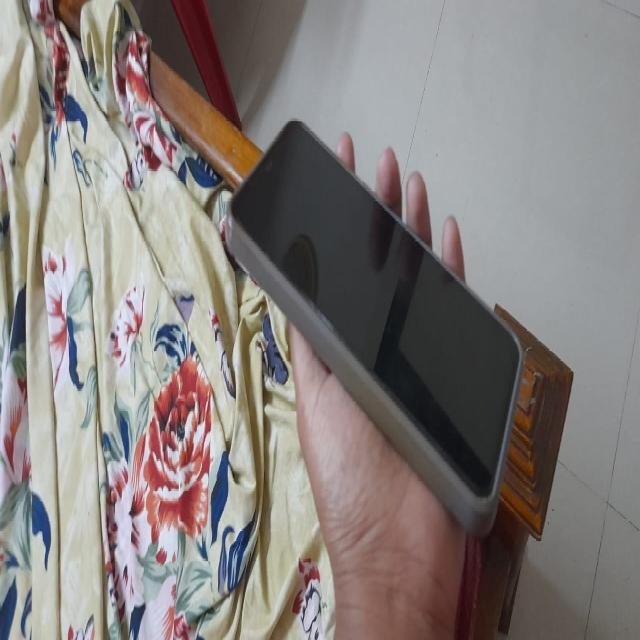Mobile - Recyclable: (221, 102, 525, 538)
